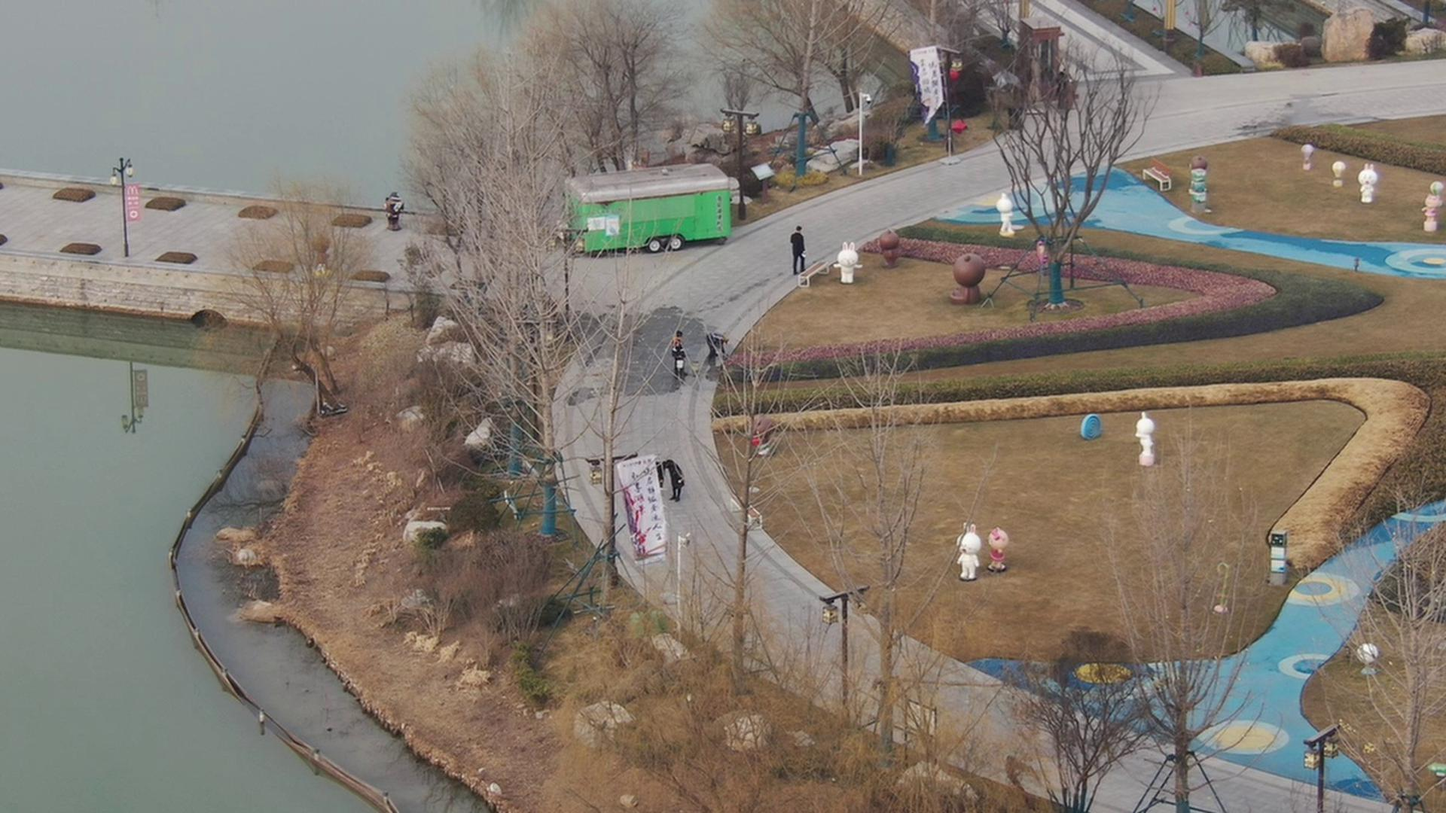class_2: (654, 452, 685, 511)
human: (697, 325, 731, 371), (786, 225, 809, 276), (669, 328, 685, 380)
